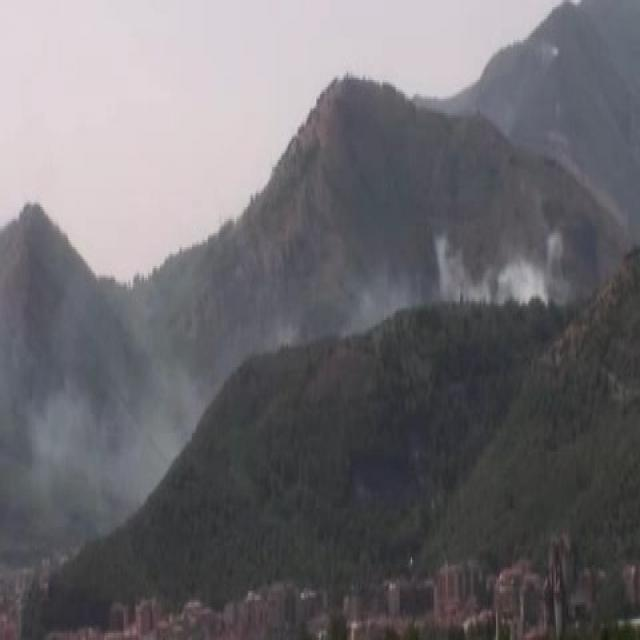smoke: (428, 216, 567, 302)
